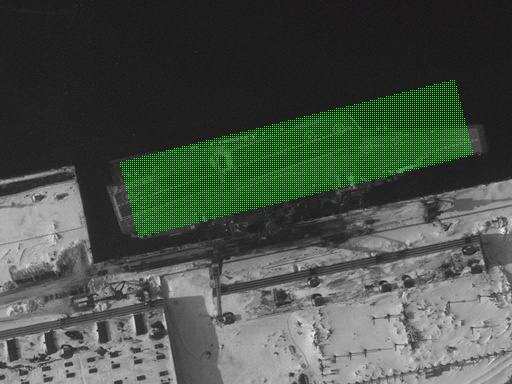ship: (100, 72, 493, 246)
